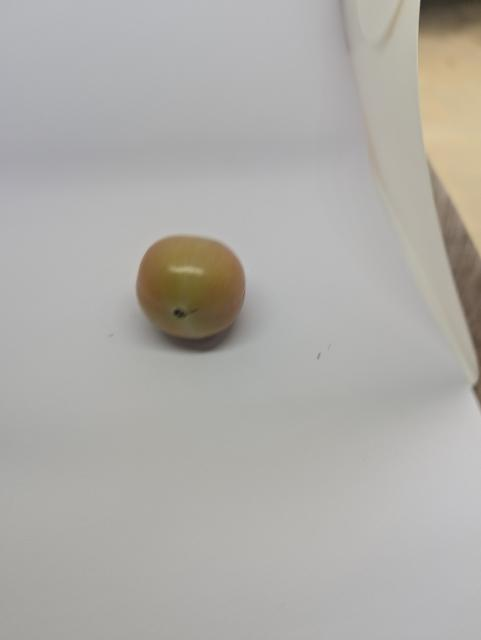breaker: (122, 233, 248, 352)
